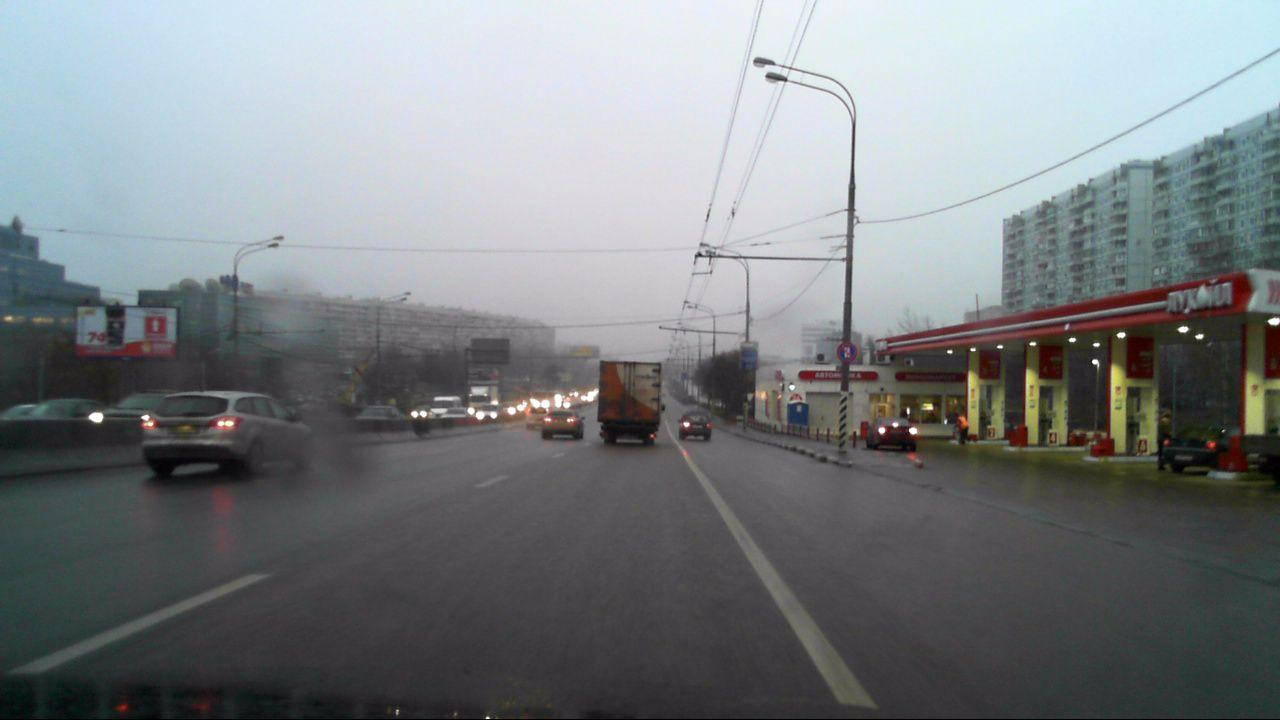3_30: (836, 341, 857, 362)
